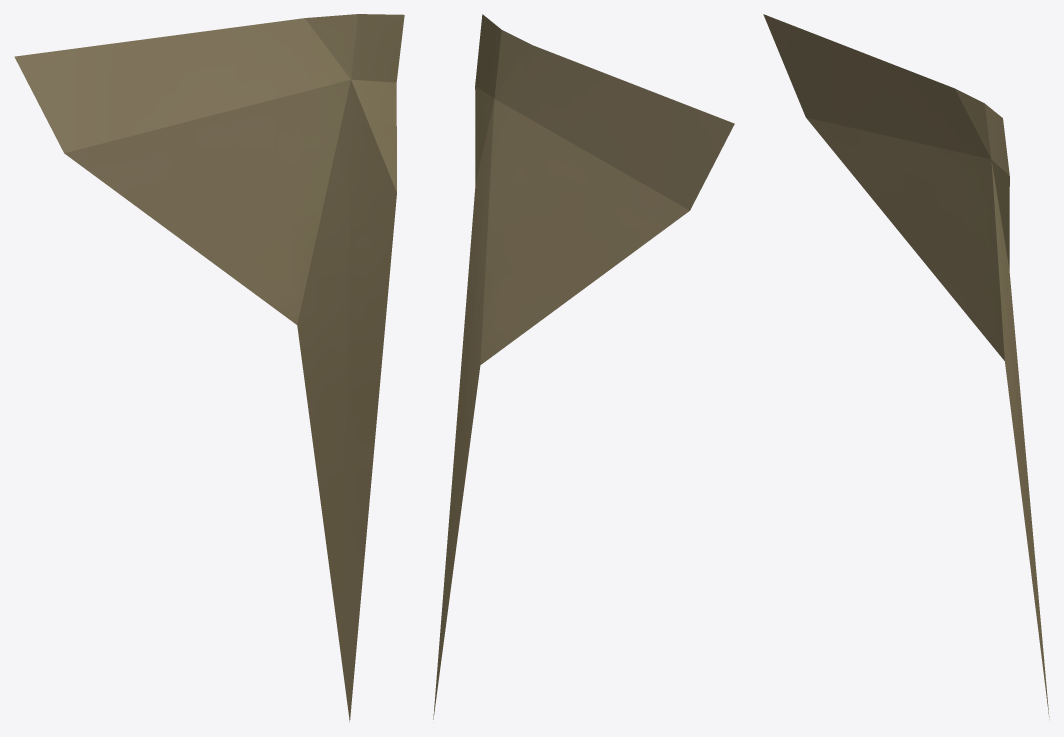
The picture shows the model from 3 angles, left to right: view 1: azimuth 30°, elevation 25°; view 2: azimuth 150°, elevation 25°; view 3: azimuth 330°, elevation 25°; orthographic projection. The views are drawn at different scales.
Bounding box in the file's own units: 0.0653 × 0.1392 × 0.0185.
1 material, 1 textured.
